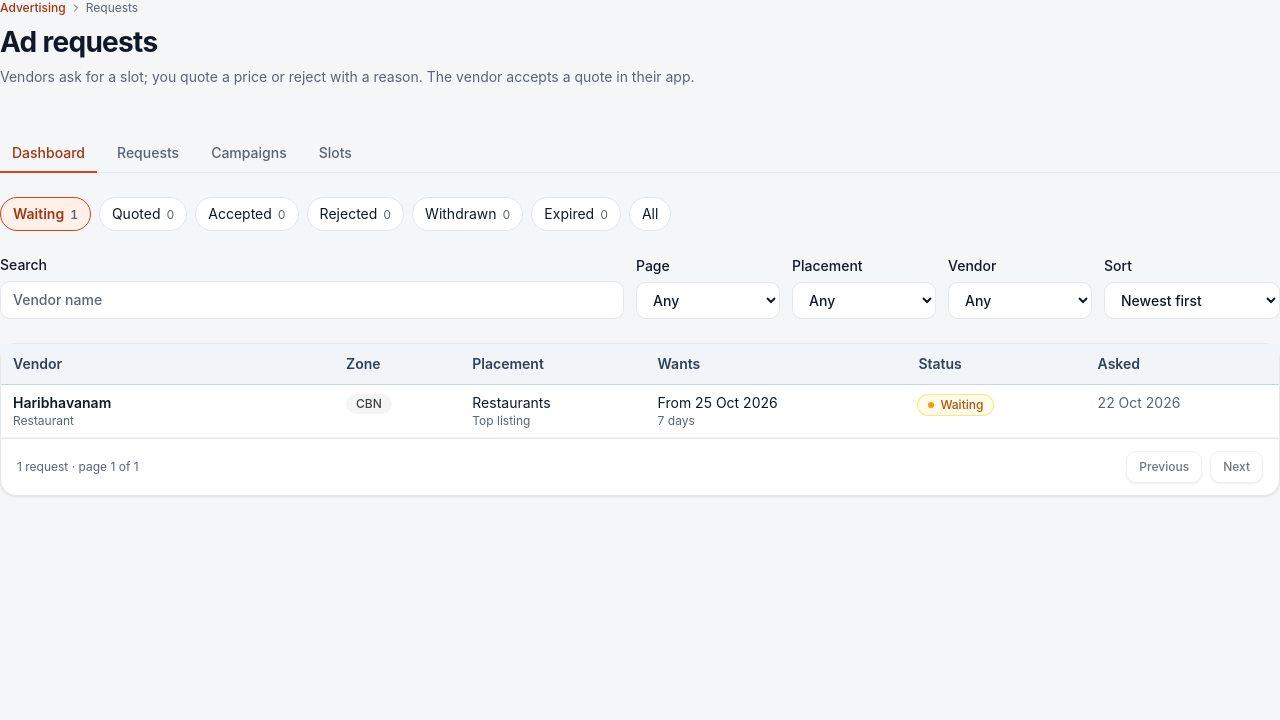
ad requests › a zone with ads:view only offers no Quote or Reject
The image size is (1280, 720).
Click the button with aria-label "Open Haribhavanam’s request". click: [62, 403]
box: [13,393,111,413]
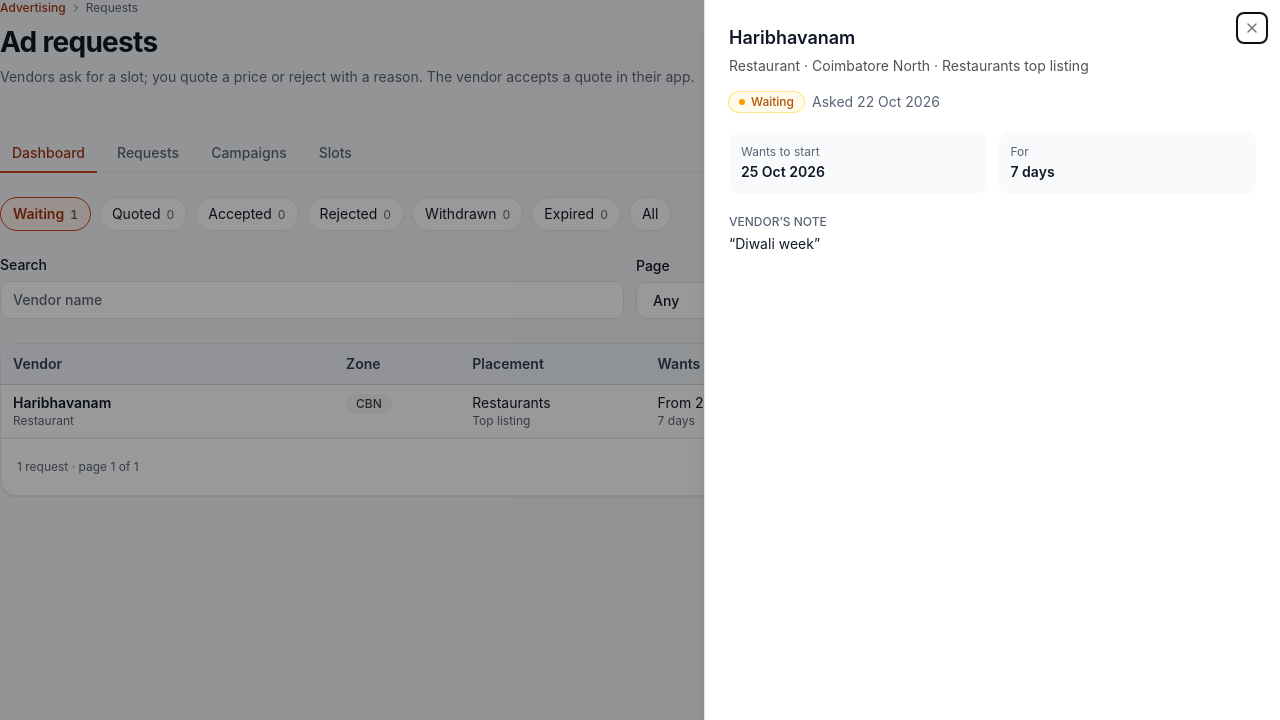
Expected: the text "“Diwali week”" is shown, [729,235,820,252]
